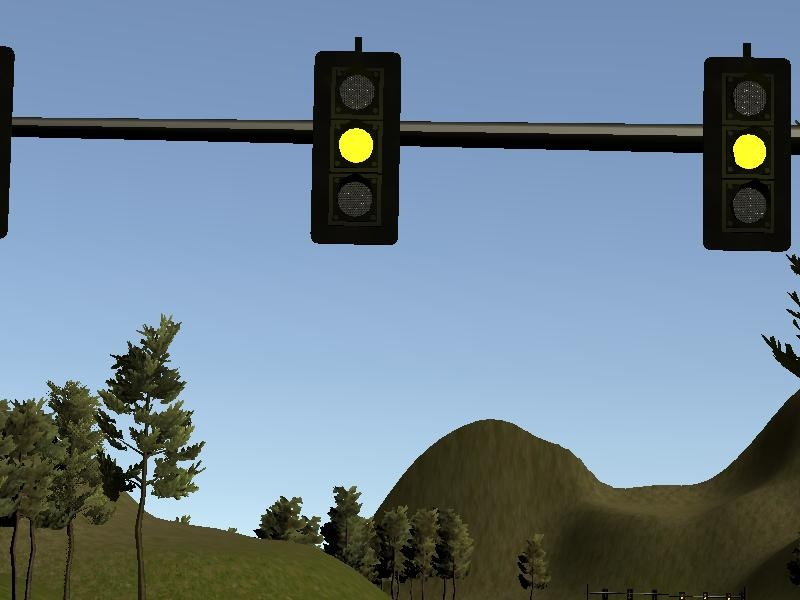YELLOW: (701, 57, 792, 254), (311, 49, 402, 246)
